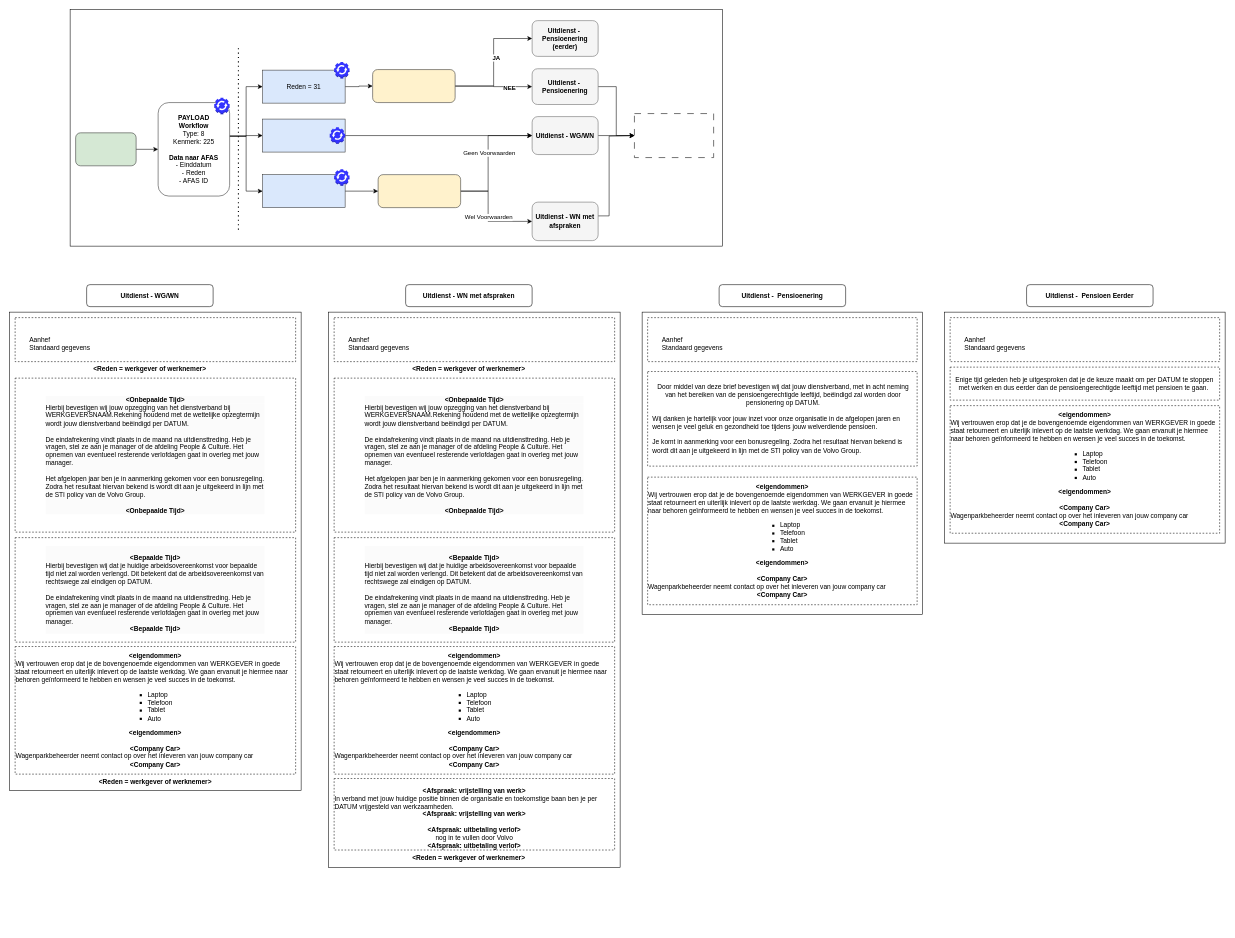
This 1235x938 diagram has some shape labels left out. The box of each missing label's shape, as (x1, y1, x2, y2) in pixels:
Andere reden: (262, 119, 345, 152)
Controles en ondertekenen: (634, 113, 714, 158)
Reden = 20: (262, 174, 345, 208)
Selecteer Voorwaarden: (378, 174, 461, 208)
SF: Medewerker uitdienst gemeld: (75, 132, 136, 166)
Vervroegd pensioen?: (372, 69, 455, 103)
